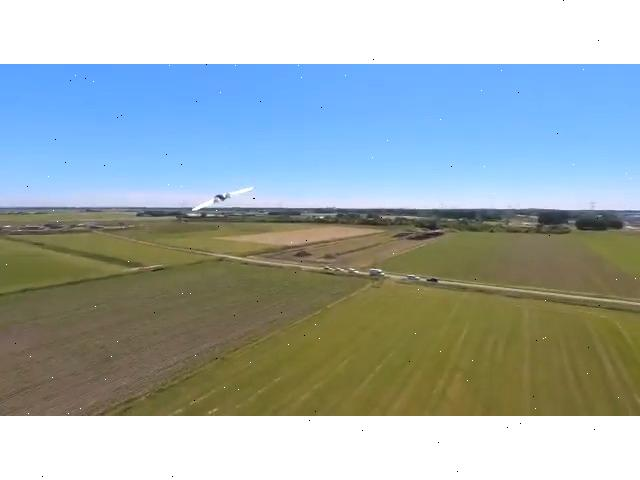Anti-Drone: (182, 178, 266, 224)
